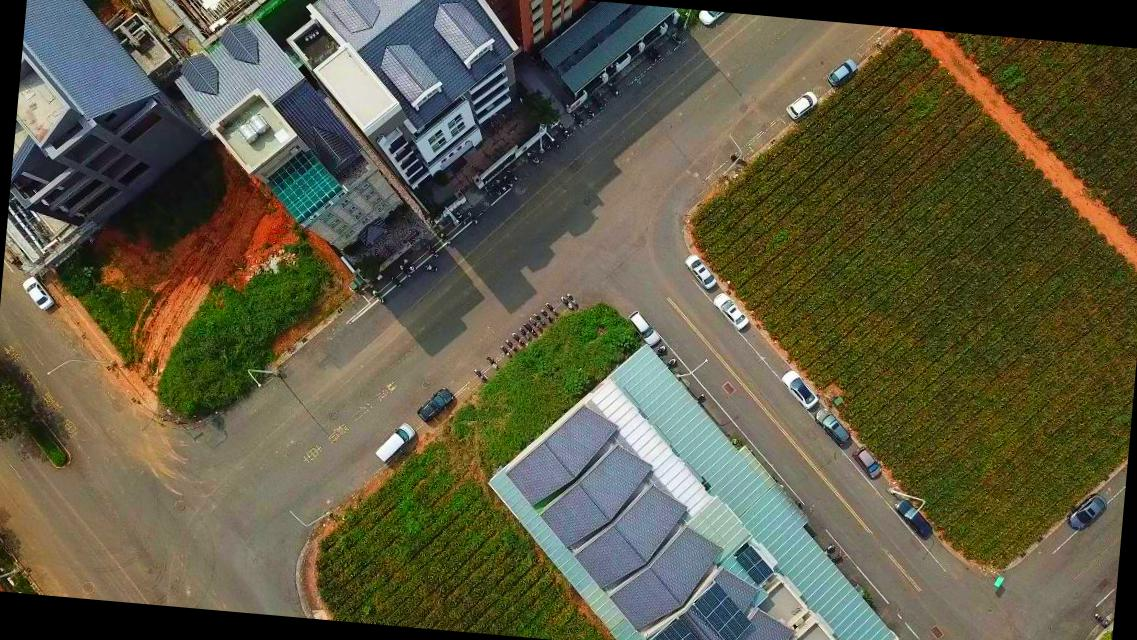vehicle: (890, 496, 934, 538), (373, 422, 415, 464), (778, 370, 820, 411), (1064, 494, 1106, 534), (710, 292, 750, 332), (416, 385, 455, 425), (812, 408, 850, 446), (625, 309, 661, 347), (21, 273, 56, 312), (681, 254, 718, 289), (785, 88, 817, 121), (849, 446, 882, 478), (826, 58, 858, 86), (694, 11, 721, 30)
